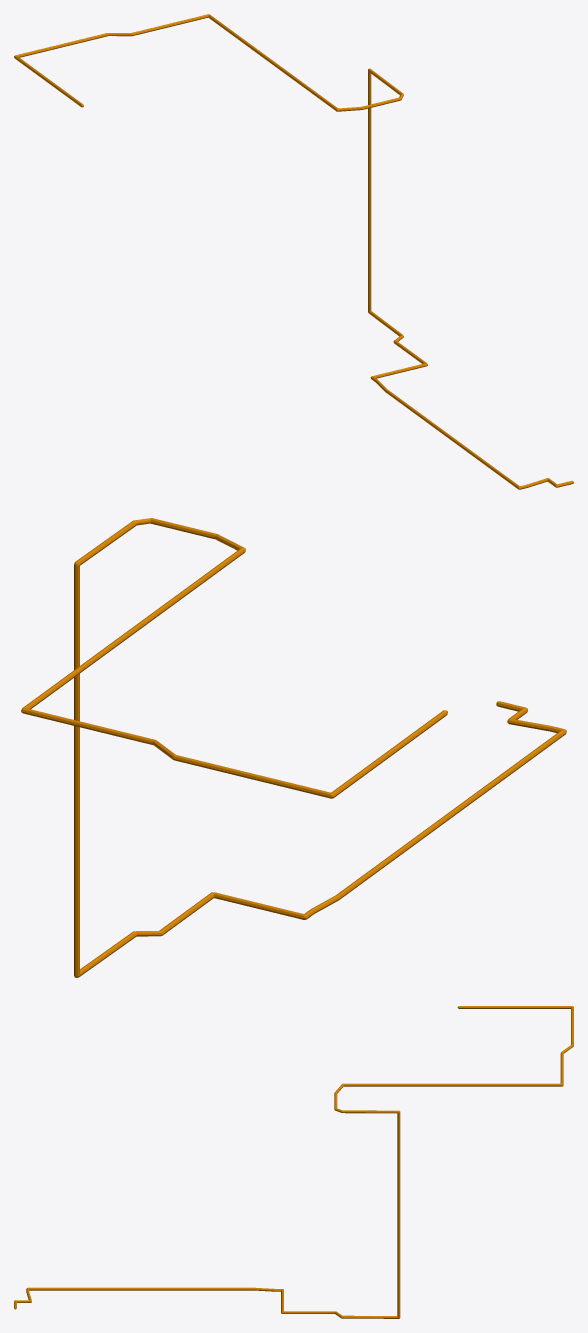
3 renders of one model, top to bottom at view 1: azimuth 30°, elevation 25°; view 2: azimuth 150°, elevation 25°; view 3: azimuth 270°, elevation 25°, orthographic. The views are drawn at different scales.
Size of the model in its own units: 1657 by 1520 by 3705.
